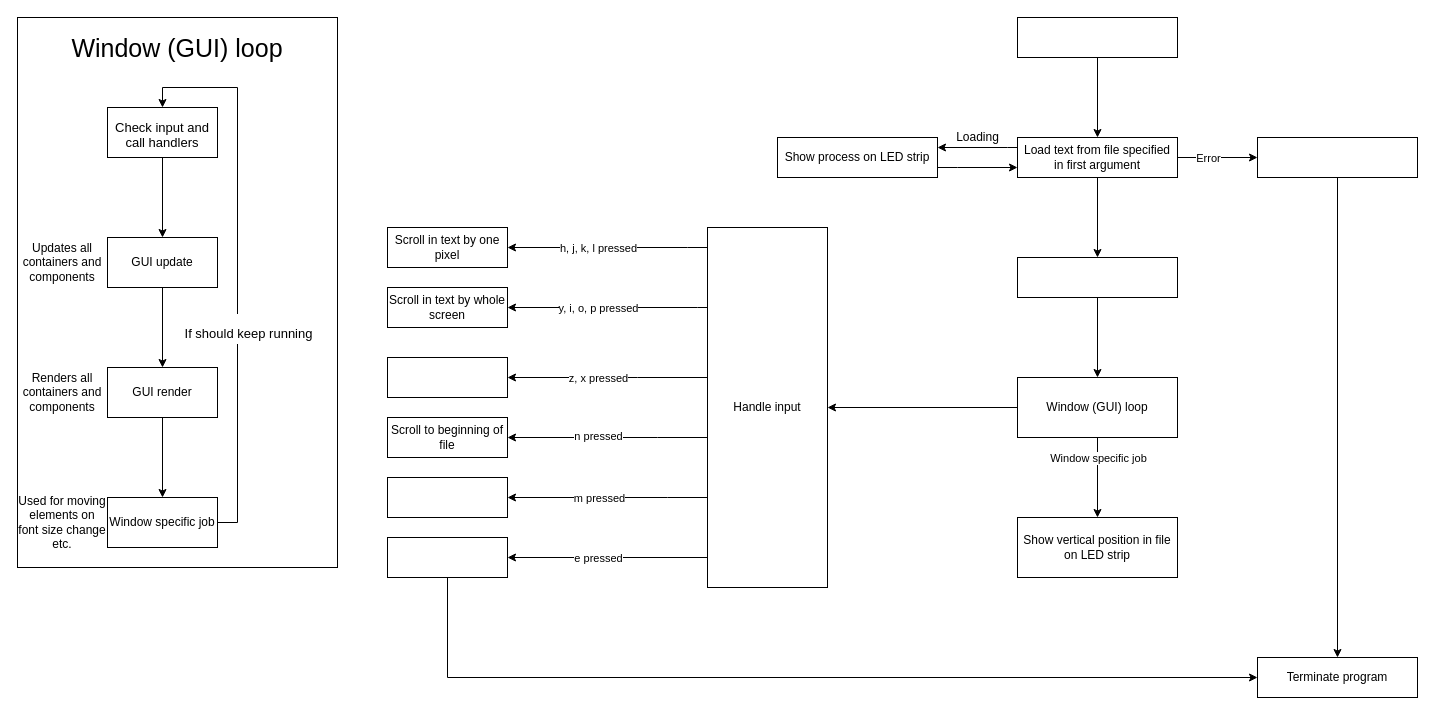
Some shapes in this 1435 by 715 pixel diagram are drawn without their labels. The centre of each missing label's shape, as x and y in pixels:
Cleanup memory and pheripherals: (x=447, y=557)
Increase or decrease font size: (x=447, y=377)
Make RGB LED red: (x=1337, y=157)
Scroll to end of file: (x=447, y=497)
Show window with text view: (x=1097, y=277)
Start text viewer: (x=1097, y=37)
